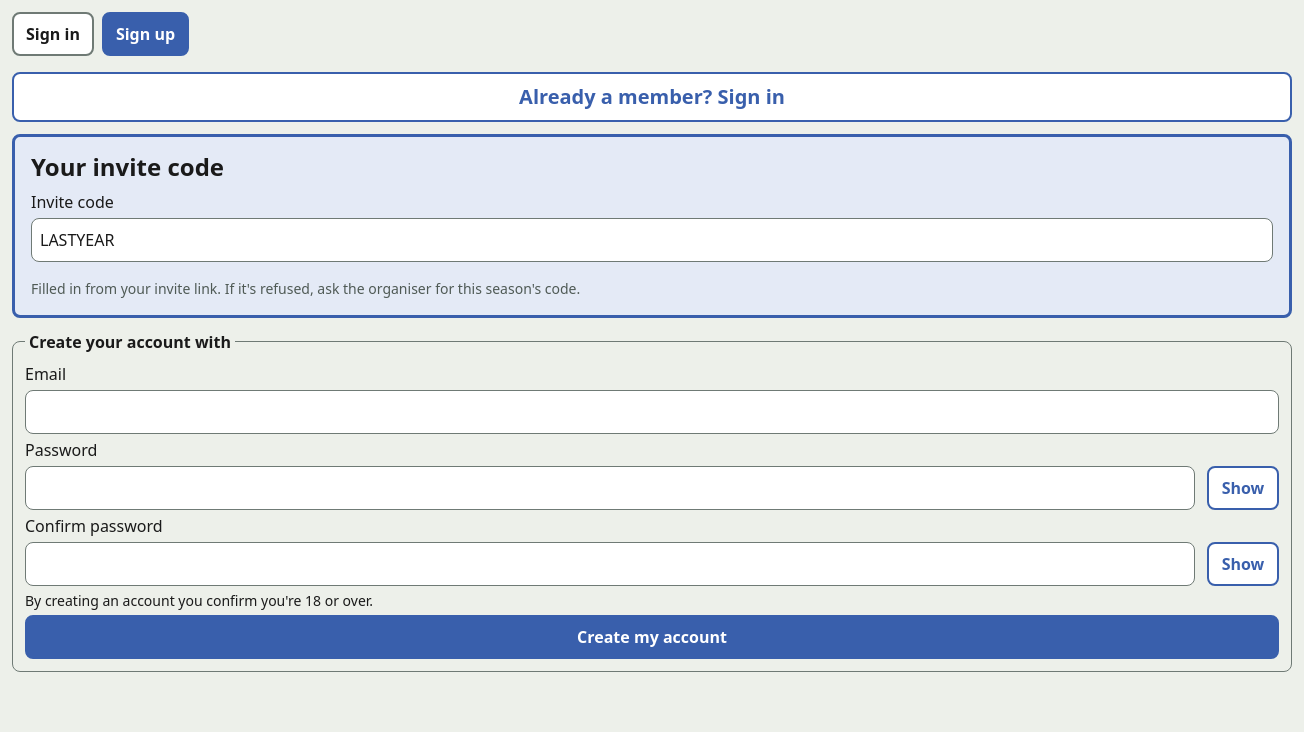
Test: #226 — the code the invite link carried › a rotated code in the link gets the route's 403 sentence, and the member stays on the form (AC 4)
This screenshot has width=1304, height=732.
Type "ann@example.com" into the field labelled "Email". click: (652, 412)
box: top-left (25, 390), bottom-right (1279, 434)
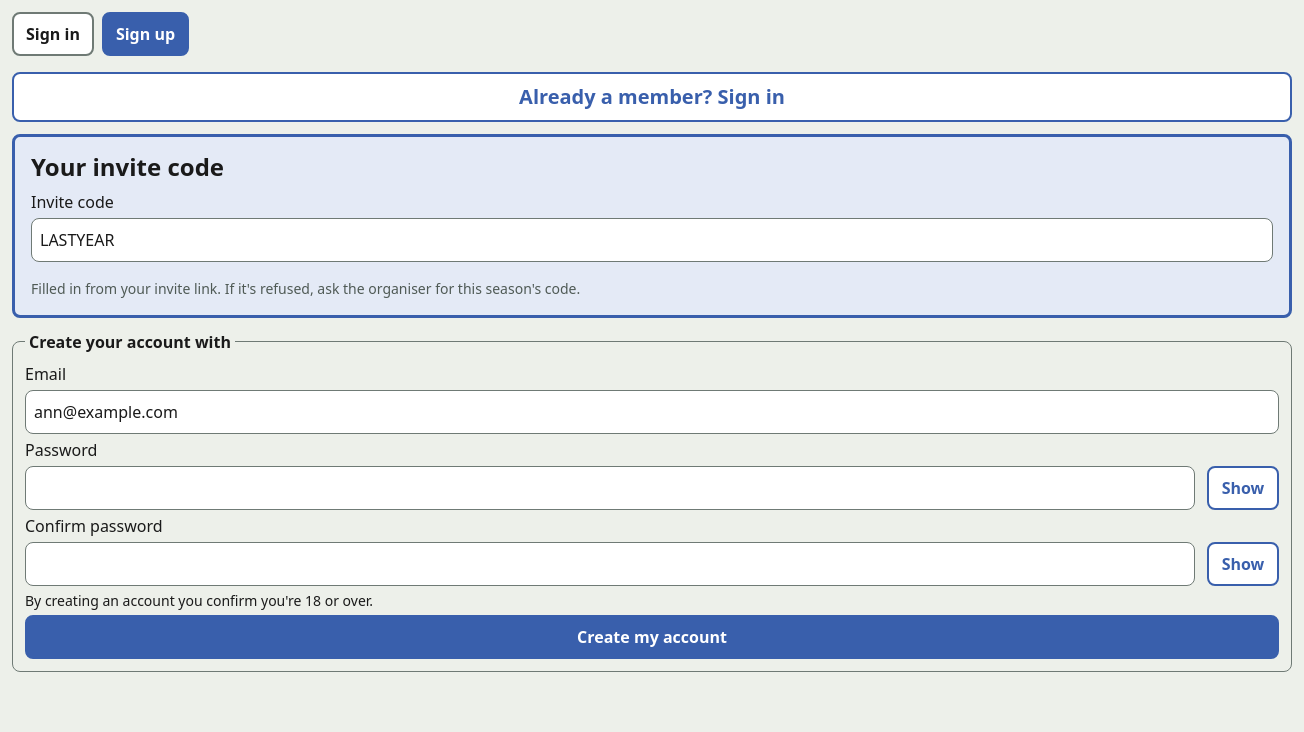
Type "correct-horse-battery" into the password field labelled "Password". click: (610, 488)
box: top-left (25, 466), bottom-right (1195, 510)
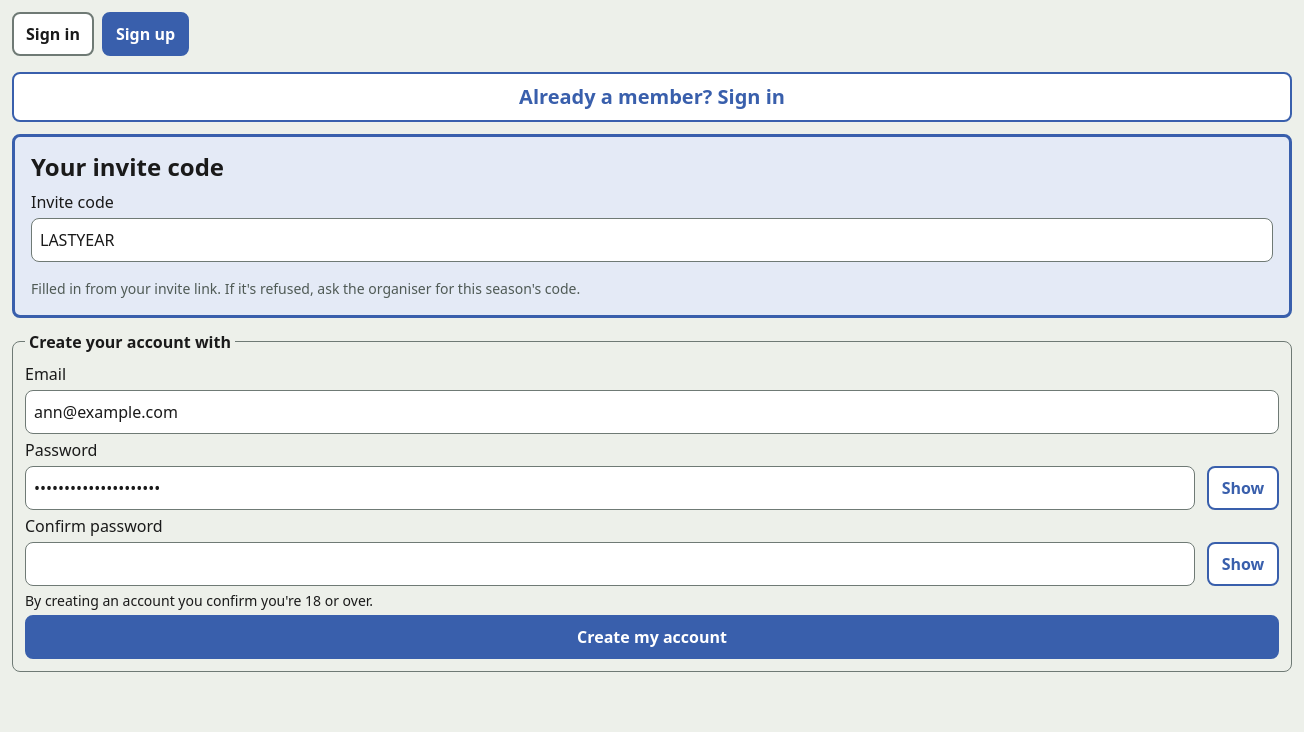
Type "correct-horse-battery" into the password field labelled "Confirm password". click: (610, 564)
box: top-left (25, 542), bottom-right (1195, 586)
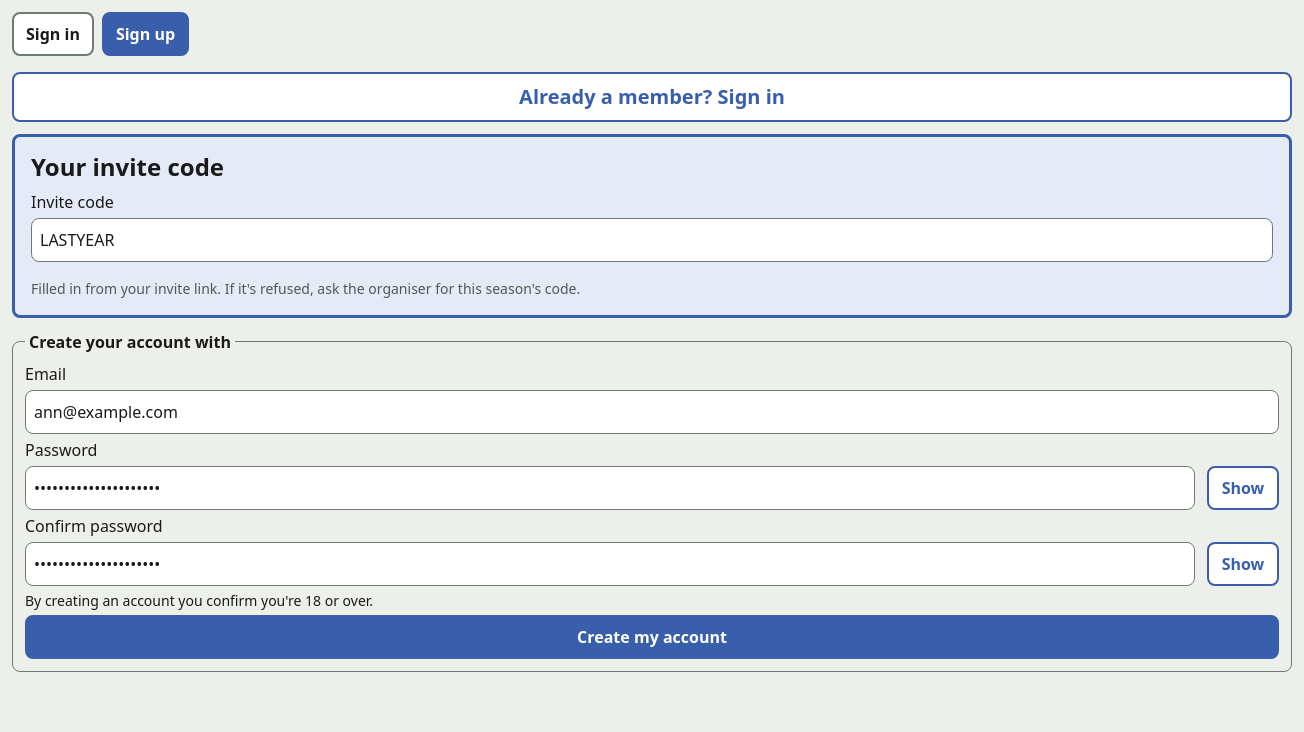
Click the button "Create my account". click: (652, 637)
box: top-left (25, 615), bottom-right (1279, 659)
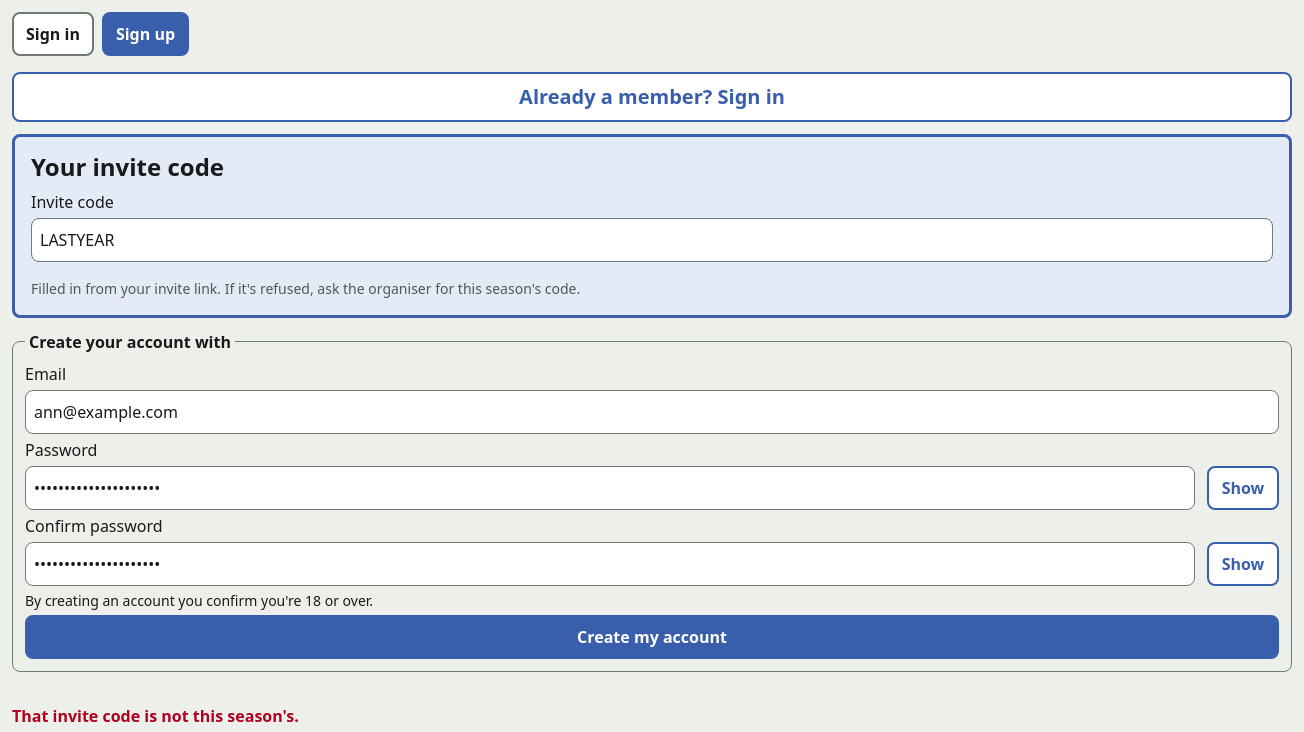
Check: the field named "code" holds "LASTYEAR", box top-left (31, 218), bottom-right (1273, 262)
Check: the message reads "That invite code is not this season's.", box top-left (12, 705), bottom-right (299, 727)
